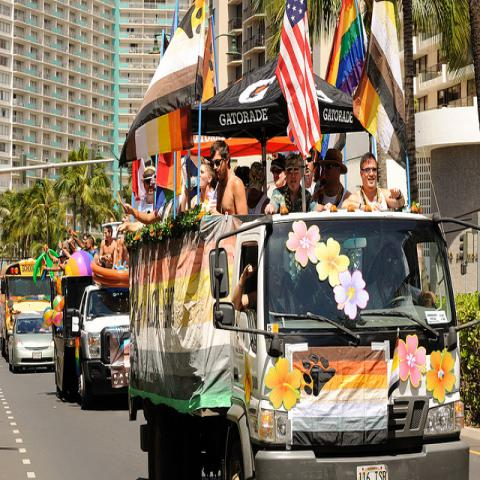bus: (0, 259, 53, 354)
car: (8, 313, 55, 372)
truck: (125, 214, 471, 474), (48, 273, 130, 406)
